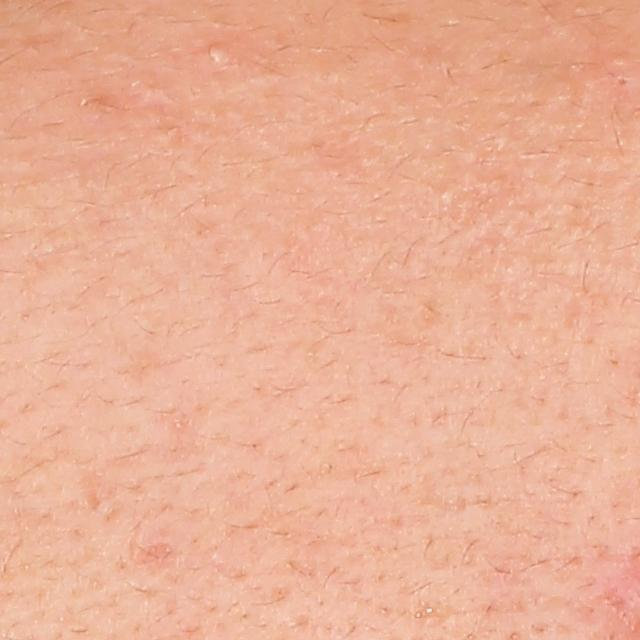comedo: (611, 71, 633, 91)
